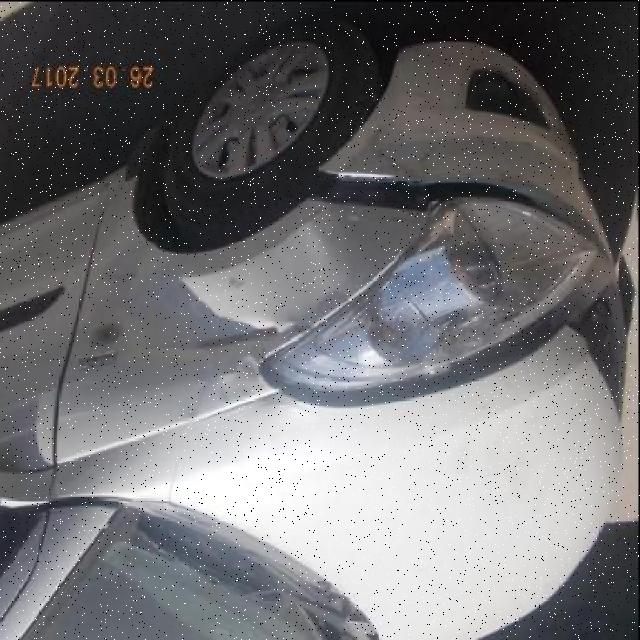damage: (258, 297, 566, 408), (302, 165, 572, 223), (137, 273, 267, 380), (144, 321, 305, 350)
